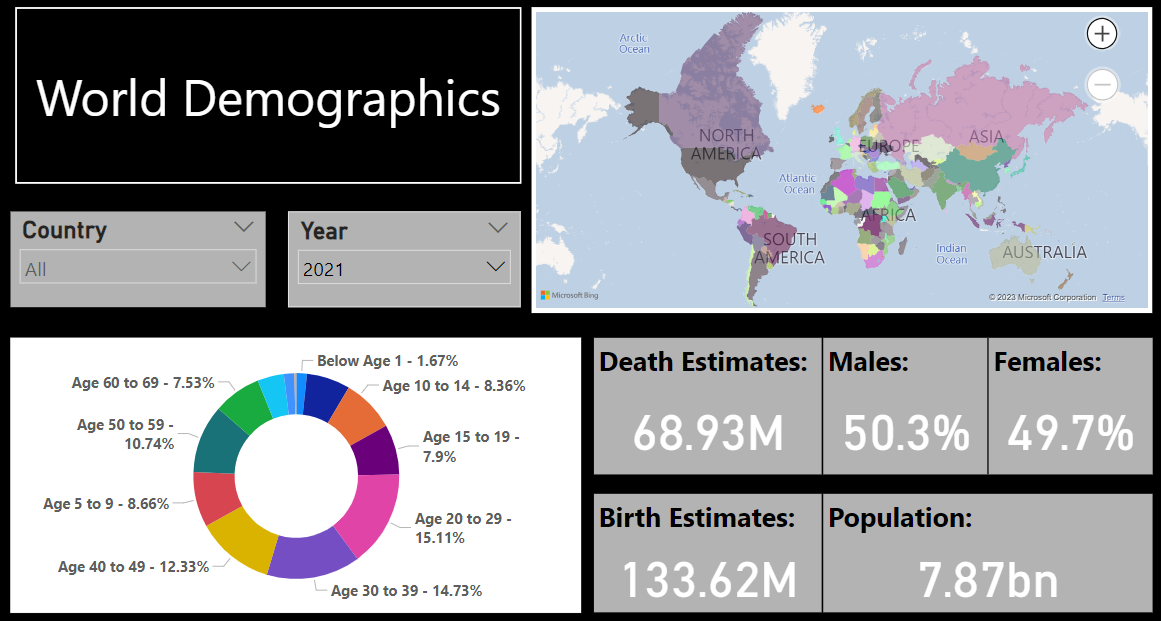

What the dashboard file says about the page in this screenshot:
{"tool":"powerbi","page":{"name":"Page 1","canvas":[1280,720],"ordinal":0},"visuals":[{"type":"filledMap","fields":{"Category":["Sheet2.Entity"],"Series":["Sheet2.Population"]},"box":[585.7,30.8,681.6,335.6],"z":0},{"type":"slicer","fields":{"Values":["Sheet2.Year"]},"box":[318.3,255,255,105],"z":1000},{"type":"card","fields":{"Values":["Sum(Sheet2.Population)"]},"box":[905.7,565.7,361.4,130],"z":2000},{"type":"donutChart","fields":{"Y":["Sum(Sheet2.Age 1)","Sum(Sheet2.Age 1 to 4)","Sum(Sheet2.Age 10 to 14)","Sum(Sheet2.Age 15 to 19)","Sum(Sheet2.Age 20 to 29)","Sum(Sheet2.Age 30 to 39)","Sum(Sheet2.Age 40 to 49)","Sum(Sheet2.Age 5 to 9)","Sum(Sheet2.Age 50 to 59)","Sum(Sheet2.Age 60 to 69)","Sum(Sheet2.Age 70 to 79)","Sum(Sheet2.Age 80 to 89)"]},"box":[14,394,626,302],"z":3000},{"type":"card","fields":{"Values":["Sum(Sheet2.Birth Estimates)"]},"box":[654.3,565.7,250,130],"z":4000},{"type":"card","fields":{"Values":["Sum(Sheet2.Deaths Estimates)"]},"box":[654,394,250,150],"z":5000},{"type":"card","fields":{"Values":["Sheet2.Male population divided by Population"]},"box":[906,393.9,180,150],"z":6000},{"type":"card","fields":{"Values":["Sheet2.Female population divided by Population"]},"box":[1088,394,180,150],"z":7000},{"type":"slicer","fields":{"Values":["Sheet2.Entity"]},"box":[13.3,255,280,105],"z":8000},{"type":"shape","title":"World Demographics","box":[18,30,556,194],"z":9000}]}

Visuals, with their boxes in screenshot pixels (x1, y1, x2, y2):
filledMap - Sheet2.Entity x Sheet2.Population: {"left": 528, "top": 4, "right": 1150, "bottom": 310}
slicer - Sheet2.Year: {"left": 284, "top": 208, "right": 517, "bottom": 304}
card - Sum(Sheet2.Population): {"left": 820, "top": 492, "right": 1150, "bottom": 611}
donutChart - Sum(Sheet2.Age 1) x Sum(Sheet2.Age 1 to 4): {"left": 7, "top": 335, "right": 578, "bottom": 611}
card - Sum(Sheet2.Birth Estimates): {"left": 591, "top": 492, "right": 819, "bottom": 611}
card - Sum(Sheet2.Deaths Estimates): {"left": 591, "top": 335, "right": 819, "bottom": 472}
card - Sheet2.Male population divided by Population: {"left": 821, "top": 335, "right": 985, "bottom": 472}
card - Sheet2.Female population divided by Population: {"left": 987, "top": 335, "right": 1151, "bottom": 472}
slicer - Sheet2.Entity: {"left": 6, "top": 208, "right": 262, "bottom": 304}
"World Demographics" shape: {"left": 10, "top": 3, "right": 518, "bottom": 180}
